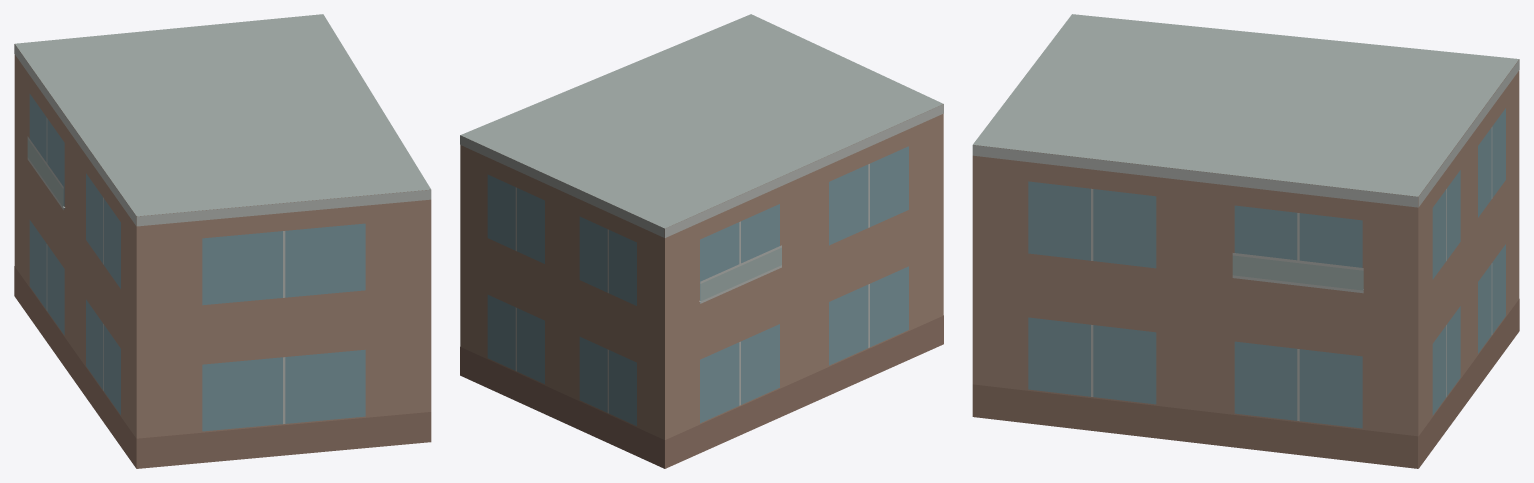
Rendered from survey-upis-32670278.glb.
The picture shows the model from 3 angles, left to right: view 1: azimuth 30°, elevation 25°; view 2: azimuth 150°, elevation 25°; view 3: azimuth 270°, elevation 25°; orthographic projection. The views are drawn at different scales.
Parts seen in each view (by area): view 1: survey-upis-32670278.tmp; view 2: survey-upis-32670278.tmp; view 3: survey-upis-32670278.tmp.
Boxes of the visible parts, x1,y1,x2,y2 form: survey-upis-32670278.tmp: [14, 14, 431, 468]; survey-upis-32670278.tmp: [460, 14, 943, 468]; survey-upis-32670278.tmp: [972, 14, 1519, 468].
Size of the model in its own units: 8.8 by 6.1 by 11.12.
